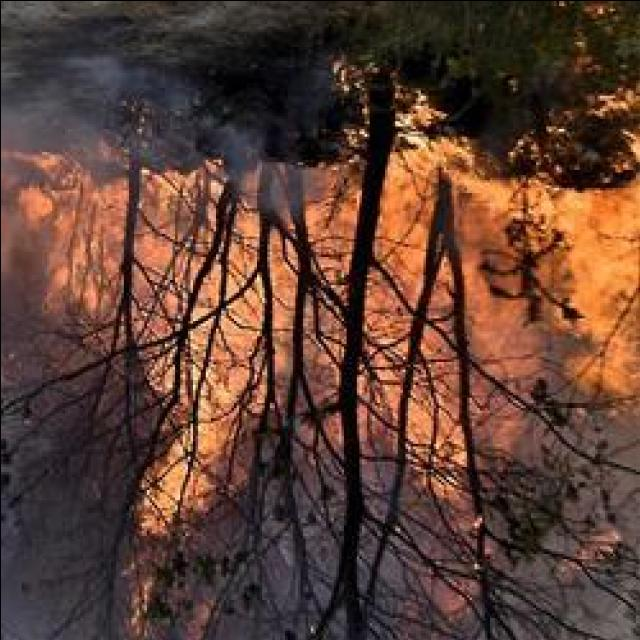fire: (52, 180, 129, 312), (570, 185, 640, 303), (384, 145, 429, 227)
smoke: (8, 93, 92, 161)
